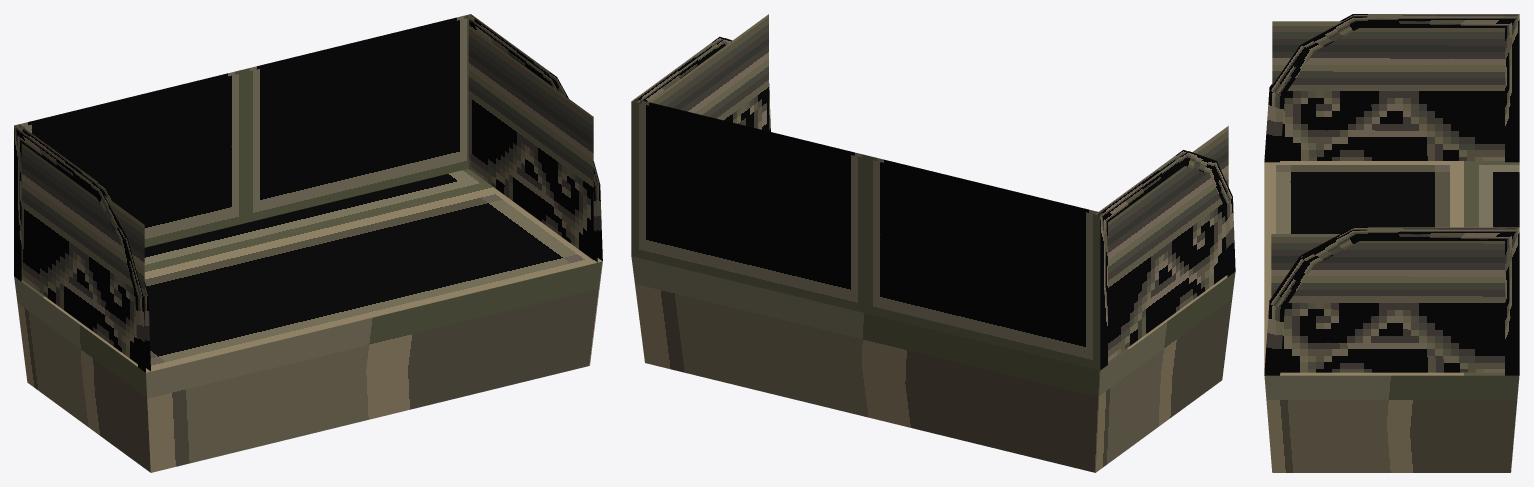
3 renders of one model, left to right at view 1: azimuth 30°, elevation 25°; view 2: azimuth 150°, elevation 25°; view 3: azimuth 270°, elevation 25°, orthographic. The views are drawn at different scales.
Visible parts, largest first — view 1: 3876kg3case04; view 2: 3876kg3case04; view 3: 3876kg3case04.
Part boxes in pixels (left/top/right/bottom): 3876kg3case04: left=14, top=14, right=602, bottom=472; 3876kg3case04: left=631, top=14, right=1235, bottom=472; 3876kg3case04: left=1264, top=14, right=1519, bottom=472.
Size of the model in its own units: 2 by 1.07 by 1.
4 materials, 4 textured.
